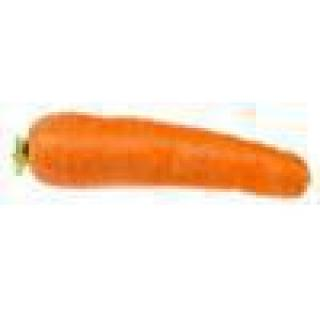Wortel: (1, 100, 311, 241)
